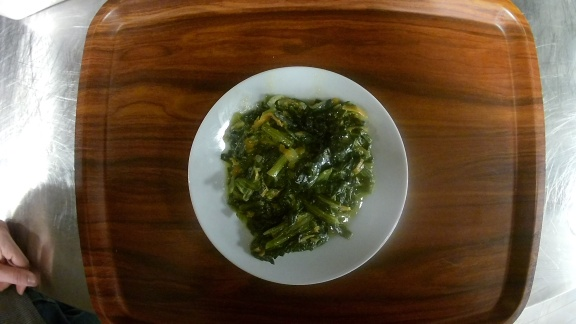ispanak: (186, 63, 410, 286)
